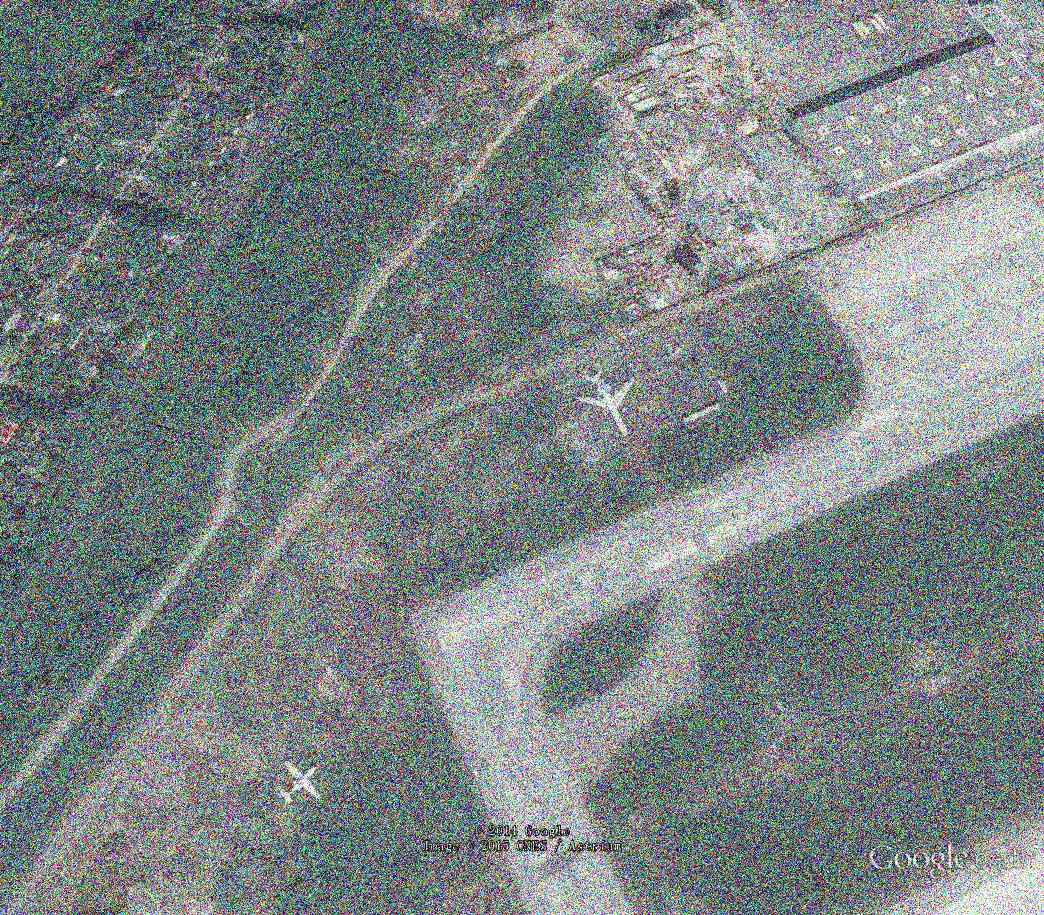aircraft: (573, 369, 646, 444), (276, 759, 328, 807)
